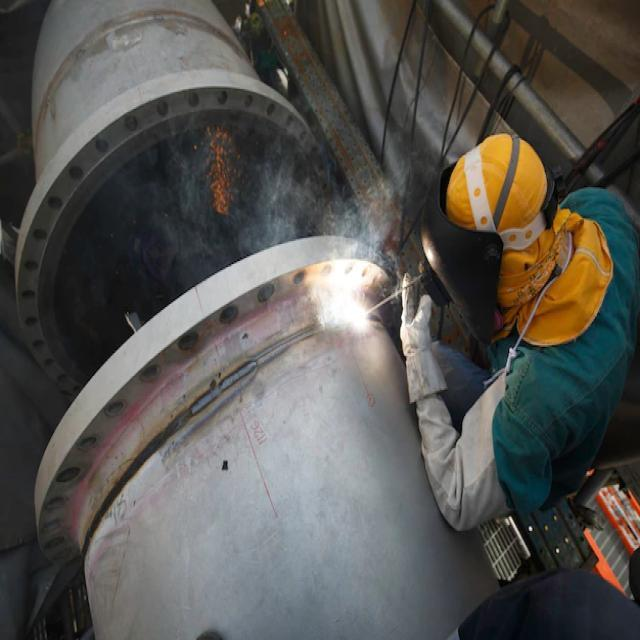with_helmet: (420, 171, 500, 342)
